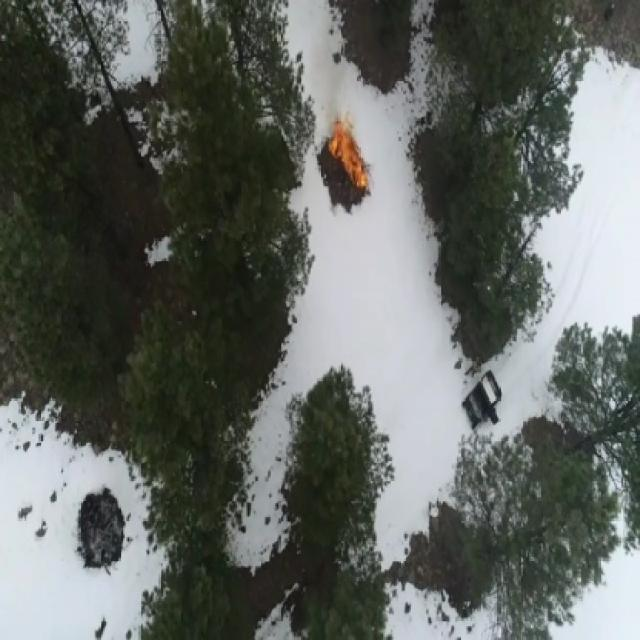Fire: (326, 112, 369, 191)
